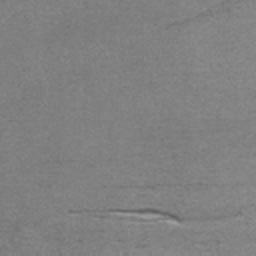Finishing roll printing: (69, 209, 181, 225)
